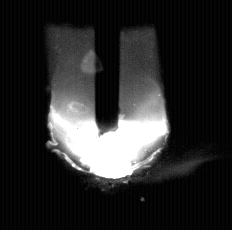arame: (95, 0, 121, 137)
poca: (52, 0, 168, 230)
